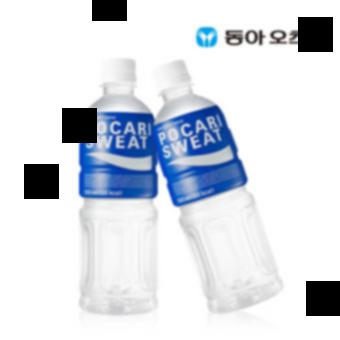pocarisweat: (78, 53, 162, 323)
